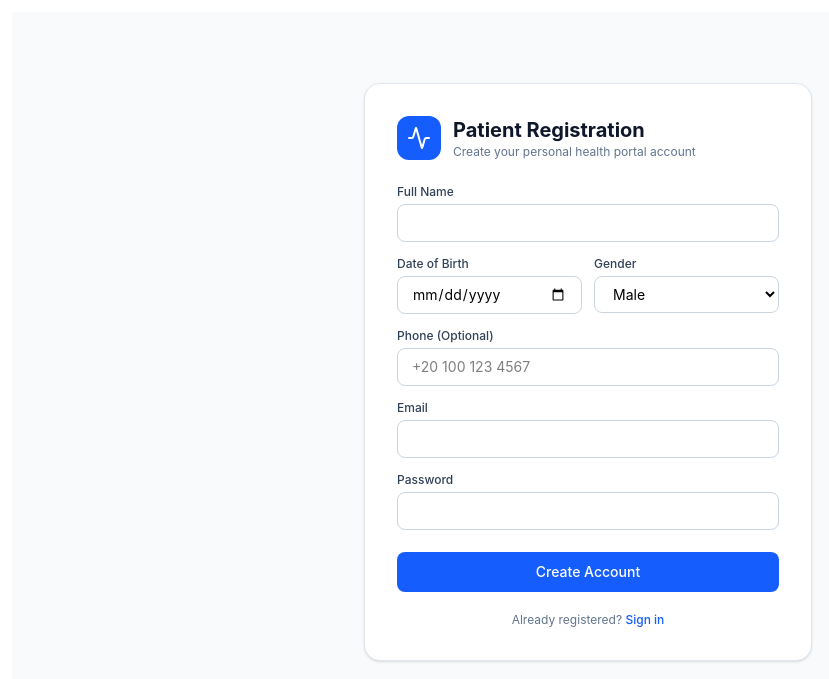
Test case: Authentication & RBAC flows › registers a patient with gender and signs in automatically
The image size is (829, 679).
Type "Nadia Adel" into the field labelled "Full Name" at (588, 223), box [397,204,779,242]
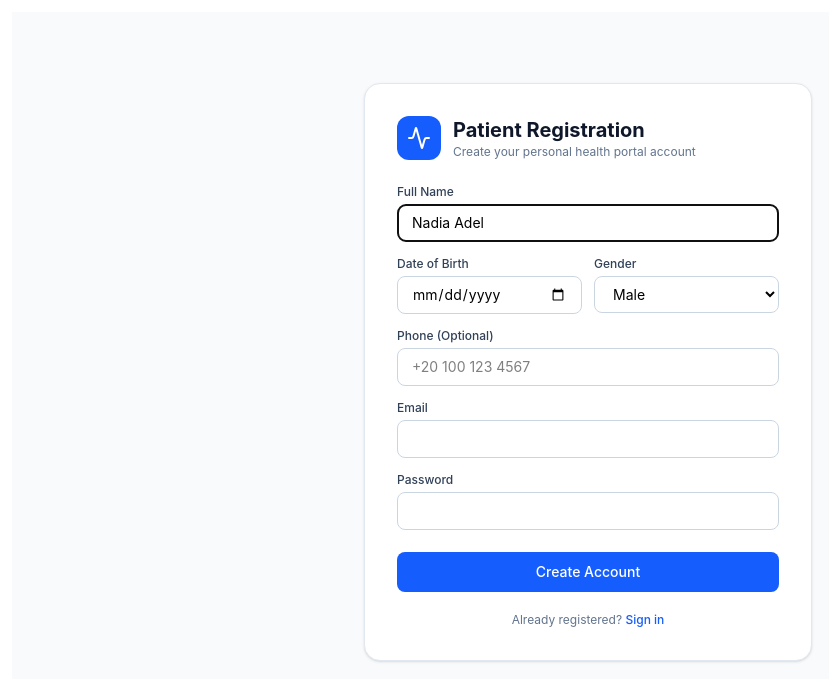
Type "1995-05-10" into the date field labelled "Date of Birth" at (490, 295), box [397,276,582,314]
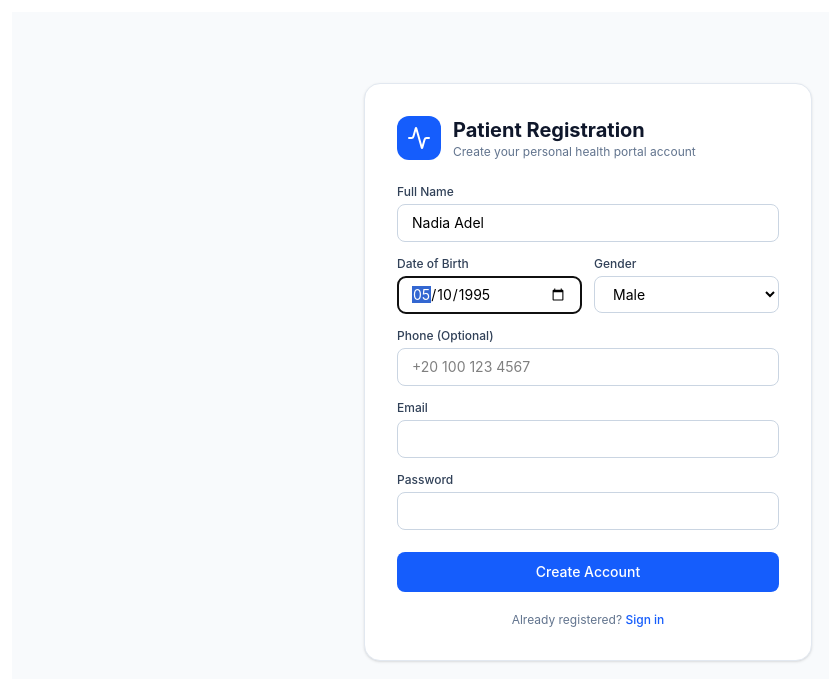
Select "Female" in the dropdown labelled "Gender" at (686, 294), box [594,276,779,313]
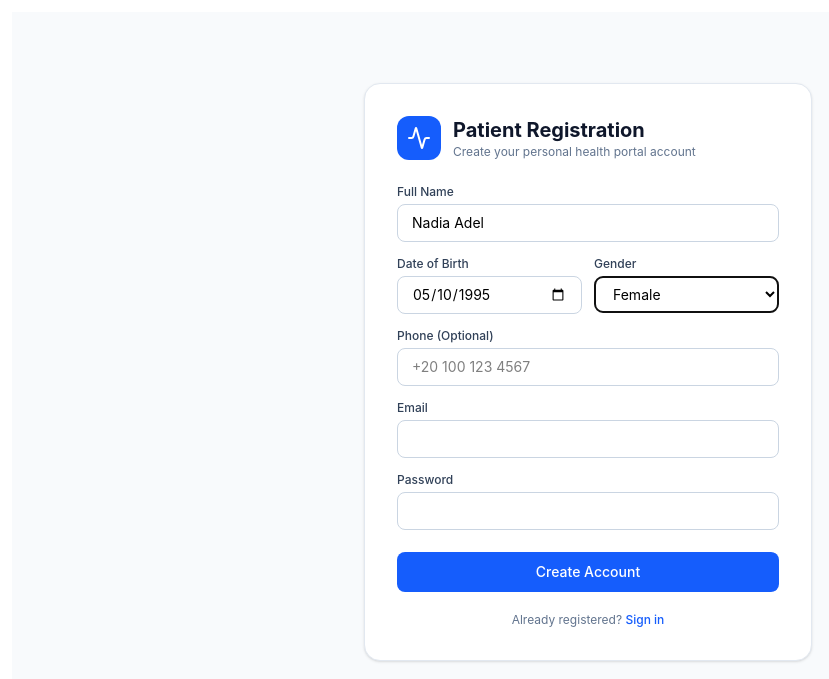
Type "nadia@demo.ortho.local" into the field labelled "Email" at (588, 439), box [397,420,779,458]
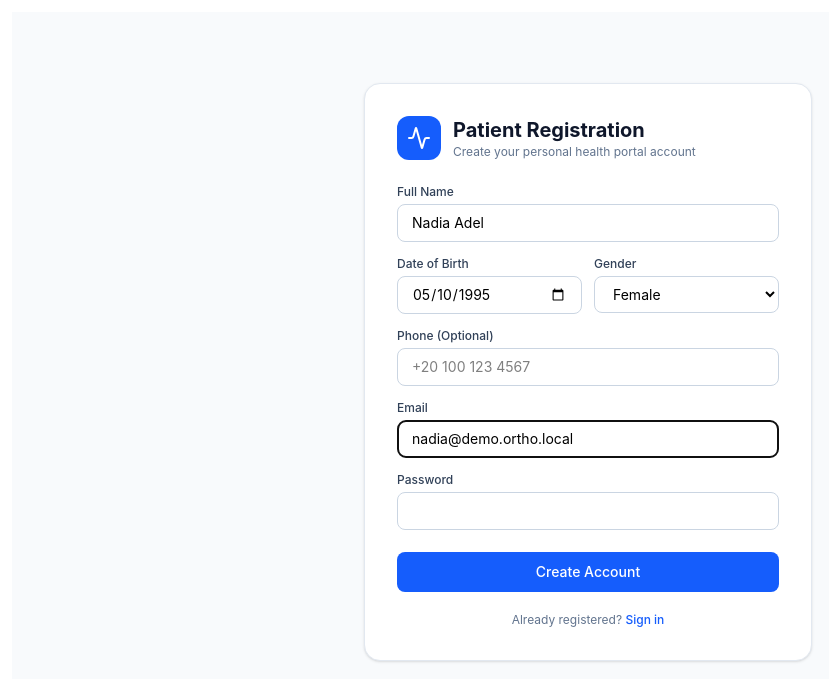
Type "Test@12345" into the password field labelled "Password" at (588, 511), box [397,492,779,530]
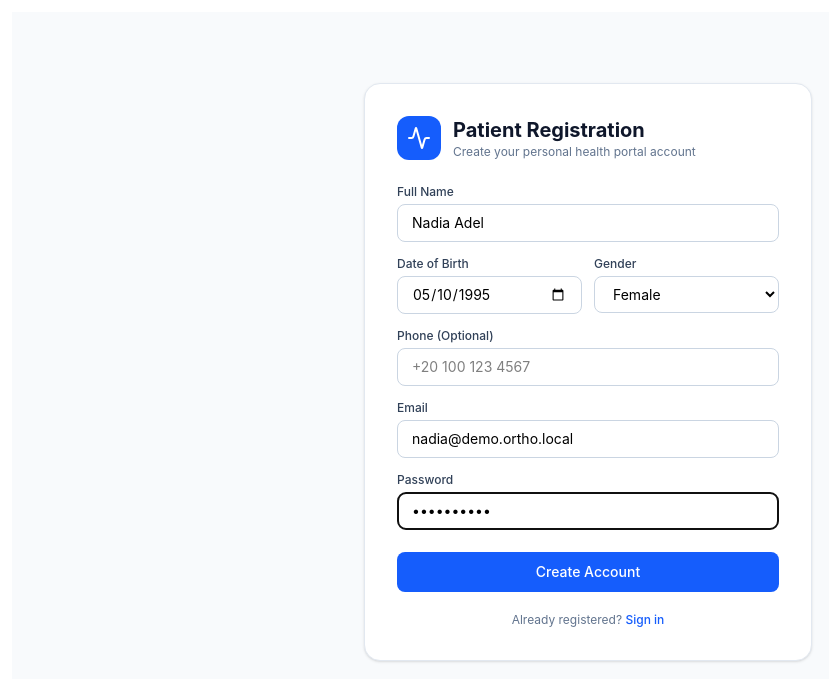
Click the button "Create Account" at (588, 572), box [397,552,779,592]
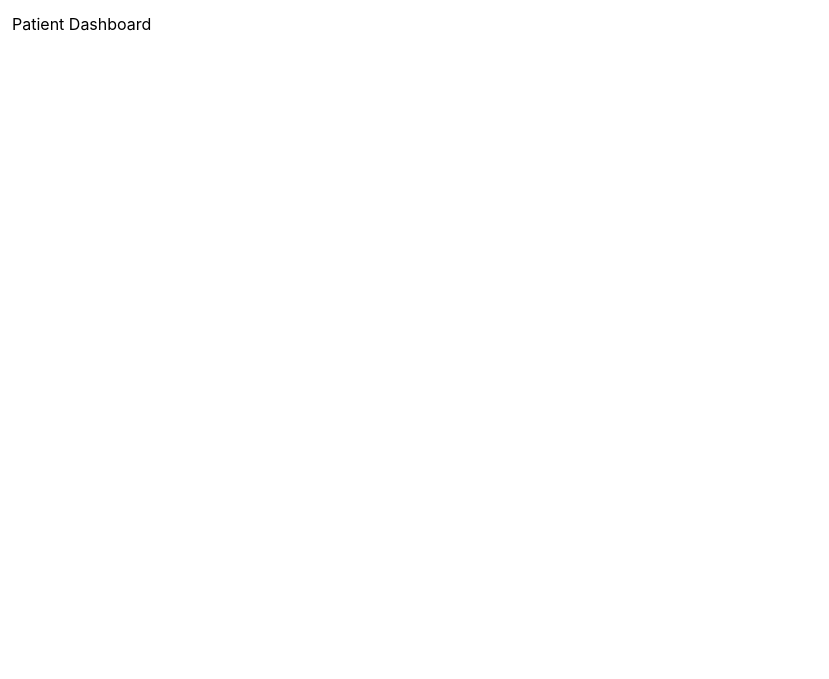
Expected: the text "Patient Dashboard" is shown, [12,14,151,34]
